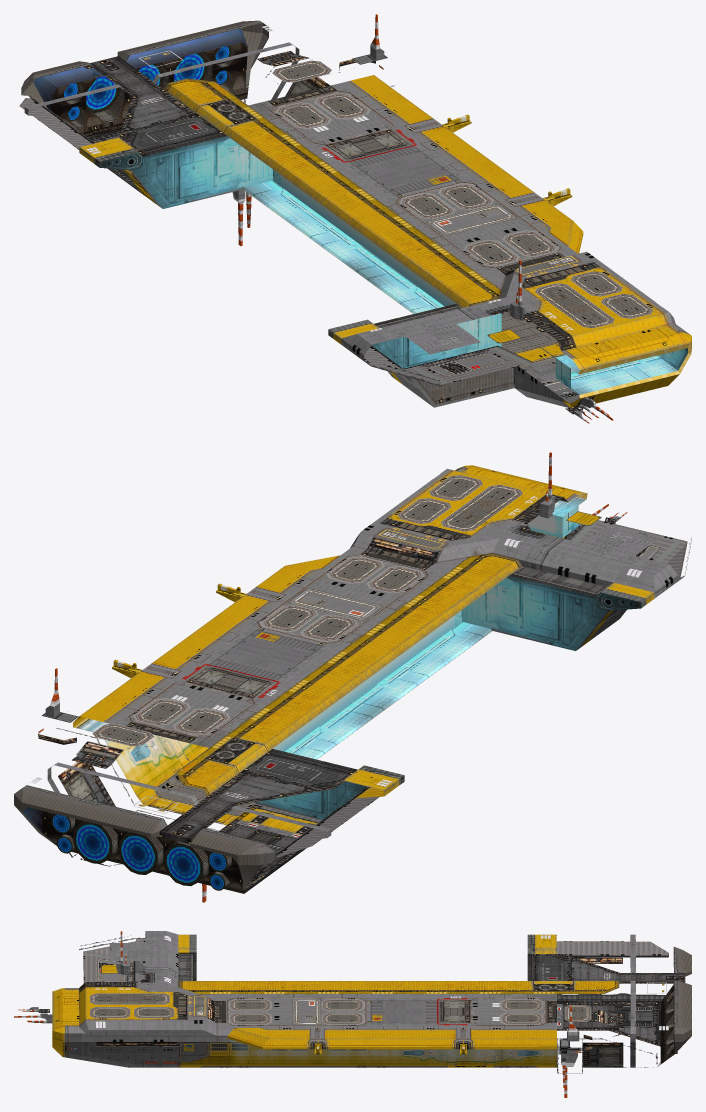
3 views of the same model, one above another, from view 1: azimuth 30°, elevation 25°; view 2: azimuth 150°, elevation 25°; view 3: azimuth 270°, elevation 25° (orthographic). The views are drawn at different scales.
Parts seen in each view (by area): view 1: A_TEX, B_TEX, Hgn_Engine, Hgn_Burner, Badge; view 2: A_TEX, B_TEX, Hgn_Burner, Badge; view 3: A_TEX, B_TEX, Badge.
Boxes of the visible parts, x1=… form: A_TEX: x1=19, y1=14, x2=691, y2=423; B_TEX: x1=132, y1=60, x2=691, y2=398; Hgn_Engine: x1=33, y1=28, x2=247, y2=111; Hgn_Burner: x1=64, y1=46, x2=230, y2=121; Badge: x1=401, y1=320, x2=480, y2=354; A_TEX: x1=14, y1=452, x2=691, y2=902; B_TEX: x1=73, y1=475, x2=607, y2=819; Hgn_Burner: x1=51, y1=814, x2=227, y2=890; Badge: x1=577, y1=524, x2=659, y2=559; A_TEX: x1=14, y1=931, x2=691, y2=1097; B_TEX: x1=90, y1=993, x2=591, y2=1049; Badge: x1=109, y1=943, x2=152, y2=960.
Bounding box in the file's own units: 799 × 507 × 1994.
